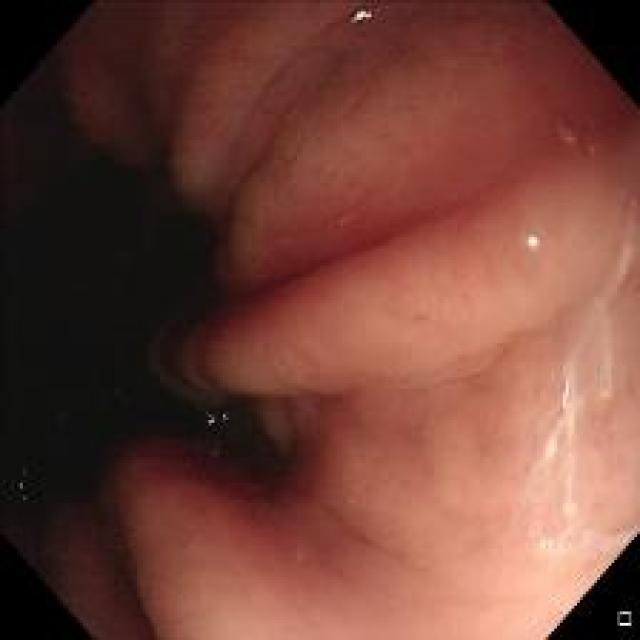color misalignment: (15, 464, 31, 500), (202, 410, 230, 426), (348, 2, 370, 22)
contrast: (6, 62, 272, 571)
specularity: (195, 406, 230, 430), (521, 226, 542, 258), (348, 6, 378, 25)
